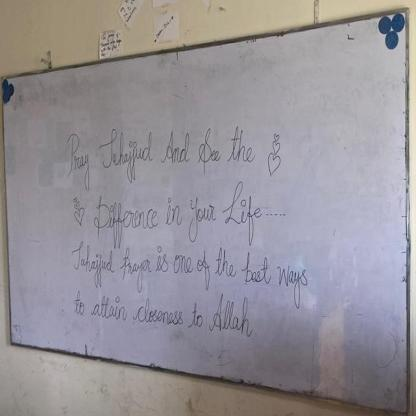Handwritten text: (52, 104, 264, 195), (65, 239, 314, 295), (90, 174, 265, 245), (66, 290, 261, 348)
Whiteboard: (1, 11, 410, 416)
